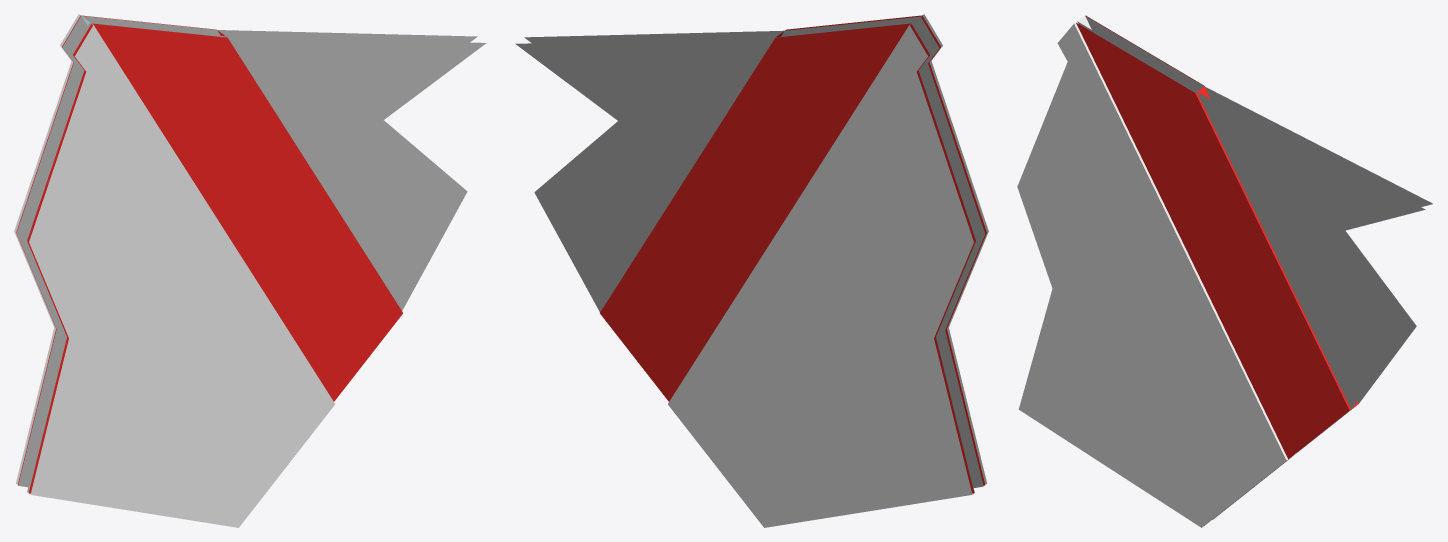
File: MidleMildle.fbx
3 renders of one model, left to right at view 1: azimuth 30°, elevation 25°; view 2: azimuth 150°, elevation 25°; view 3: azimuth 330°, elevation 25°, orthographic. The views are drawn at different scales.
Visible parts, largest first — view 1: Plane.073; view 2: Plane.073; view 3: Plane.073.
Part boxes in pixels (x1,y1,x2,y2): Plane.073: (14,14,486,527); Plane.073: (515,14,988,527); Plane.073: (1017,14,1432,527).
Bounding box in the file's own units: 2.16 × 2.41 × 0.1205.
